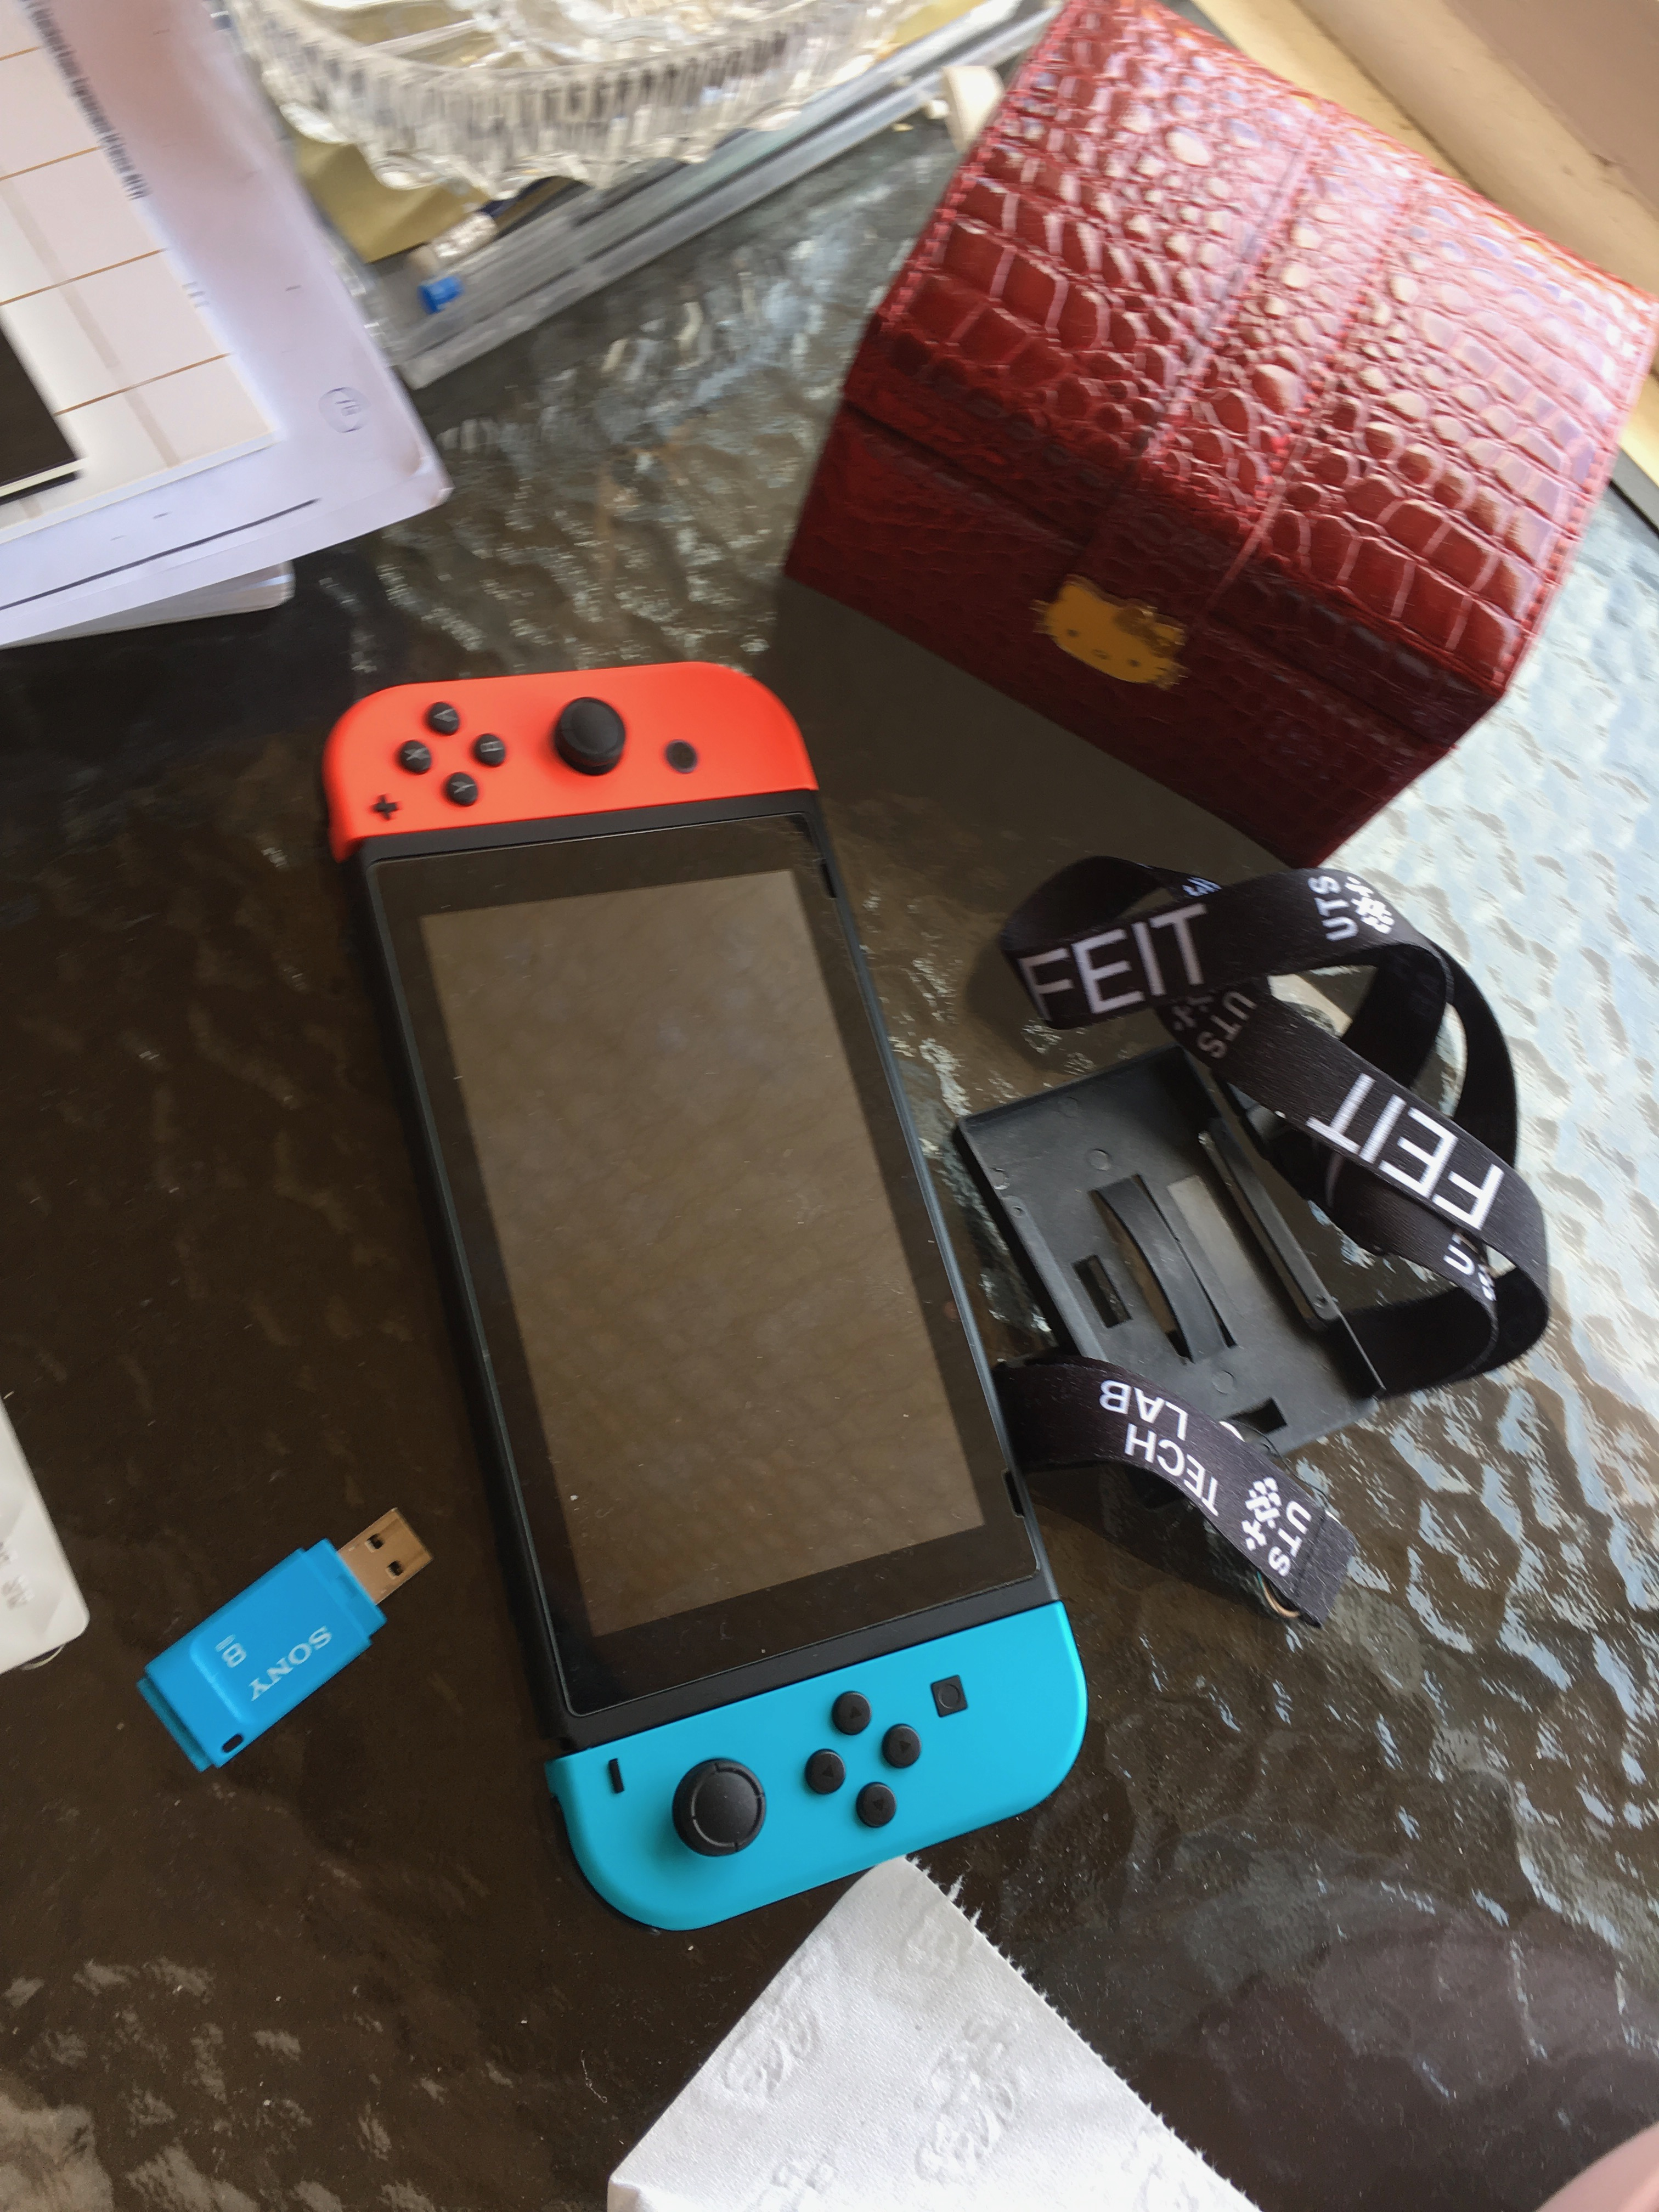NintendoSwitch: (303, 644, 1117, 1949)
